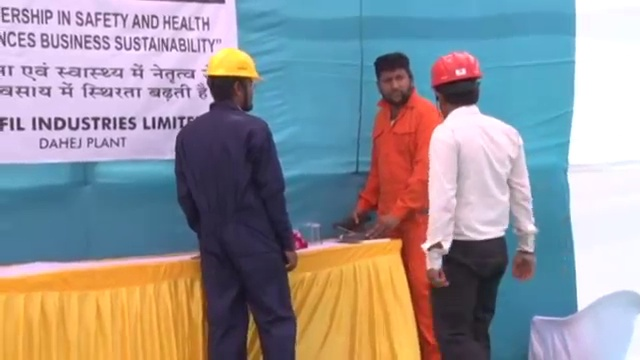helmet: (203, 46, 266, 81), (427, 50, 484, 86)
helmet_off: (372, 52, 418, 107)
helmet_on: (203, 46, 265, 116), (426, 48, 484, 119)
person: (172, 45, 302, 360), (424, 47, 540, 360), (352, 52, 446, 359)
